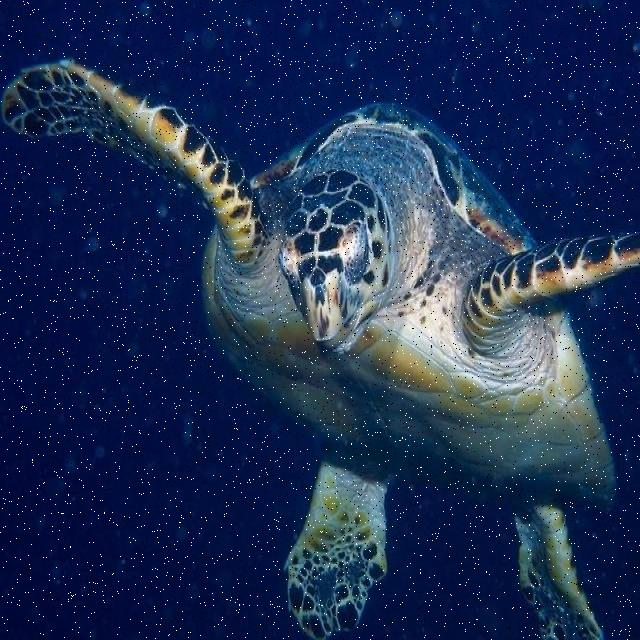fish: (1, 55, 639, 639)
